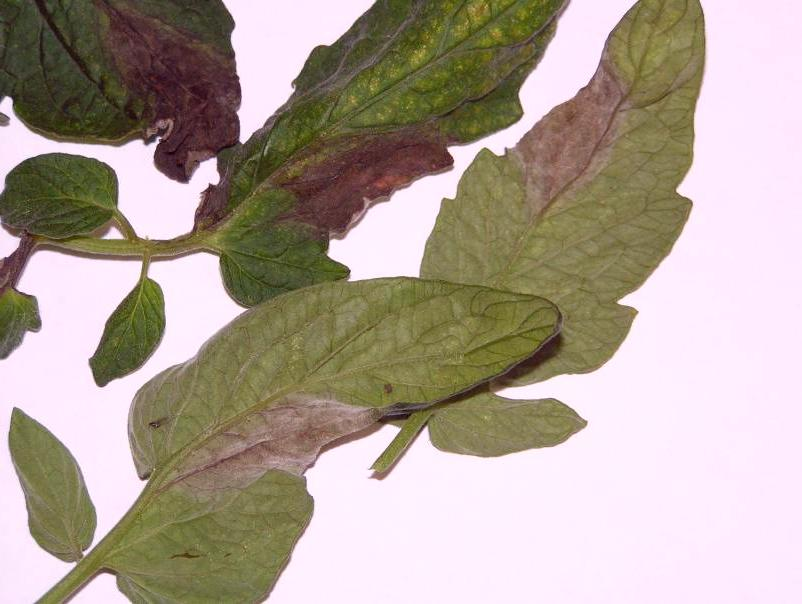Tomato leaf late blight: (381, 2, 721, 450), (104, 267, 557, 596), (201, 3, 576, 298)
